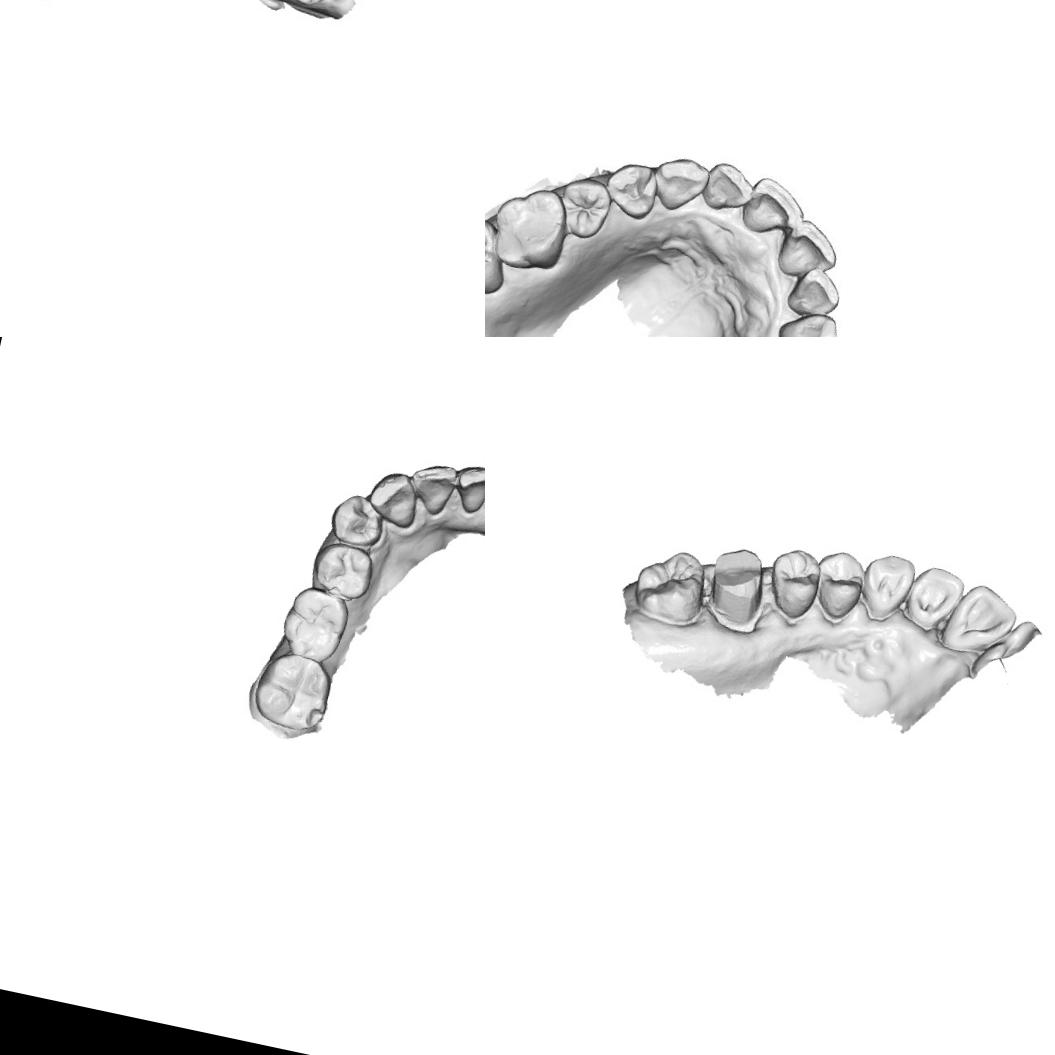canine: (854, 548, 918, 628), (362, 466, 426, 533), (652, 152, 710, 217), (771, 302, 844, 337)
crown: (698, 540, 776, 638)
incisor: (936, 578, 1022, 663), (901, 562, 968, 638), (742, 176, 806, 235), (776, 222, 839, 278), (404, 458, 460, 518), (706, 162, 760, 214), (789, 269, 842, 316), (451, 459, 485, 519)
molar: (248, 647, 339, 737), (628, 538, 714, 630), (275, 579, 356, 667), (490, 184, 569, 269), (485, 214, 512, 298)
premolar: (803, 545, 870, 627), (761, 544, 827, 625), (305, 539, 380, 604), (325, 488, 389, 552), (603, 158, 663, 225), (558, 176, 616, 245)
